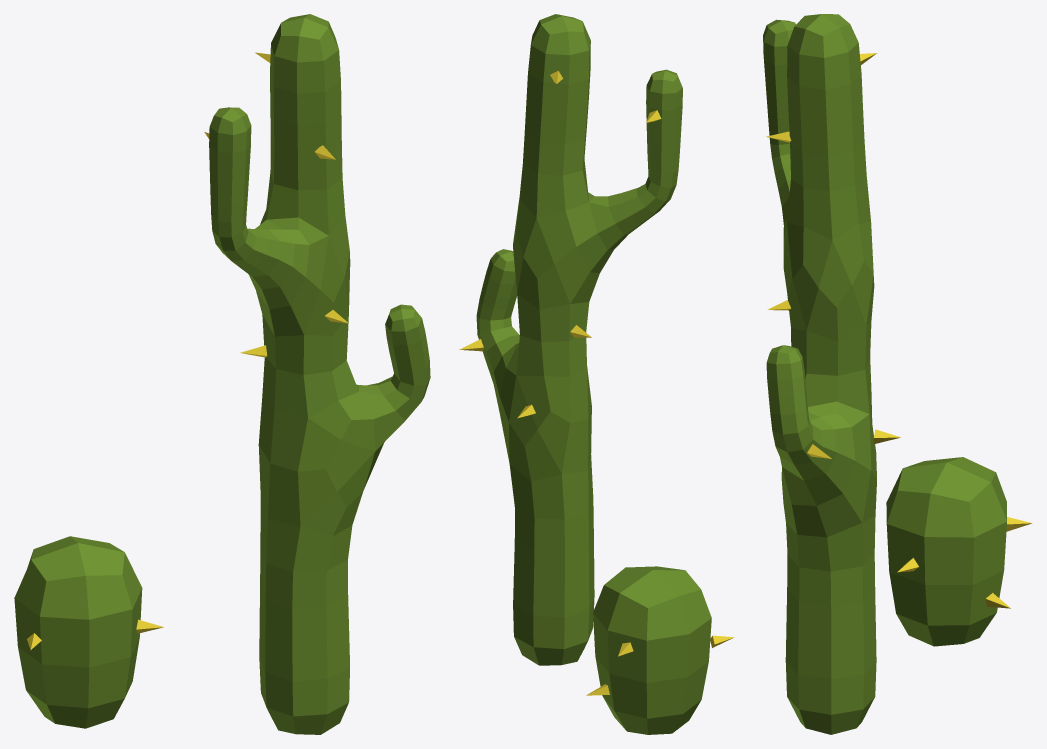
Rendered from Kaktus cilik.glb.
The picture shows the model from 3 angles, left to right: view 1: azimuth 30°, elevation 25°; view 2: azimuth 150°, elevation 25°; view 3: azimuth 270°, elevation 25°; orthographic projection. The views are drawn at different scales.
Visible parts, largest first — view 1: Plane, Plane.002; view 2: Plane, Plane.002; view 3: Plane, Plane.002.
Part boxes in pixels (x1,y1,x2,y2): Plane: (209,14,430,734); Plane.002: (14,536,142,728); Plane: (476,14,682,665); Plane.002: (593,566,711,734); Plane: (763,14,876,734); Plane.002: (886,457,1006,646).
Size of the model in its own units: 0.2781 by 0.5579 by 0.1911.
